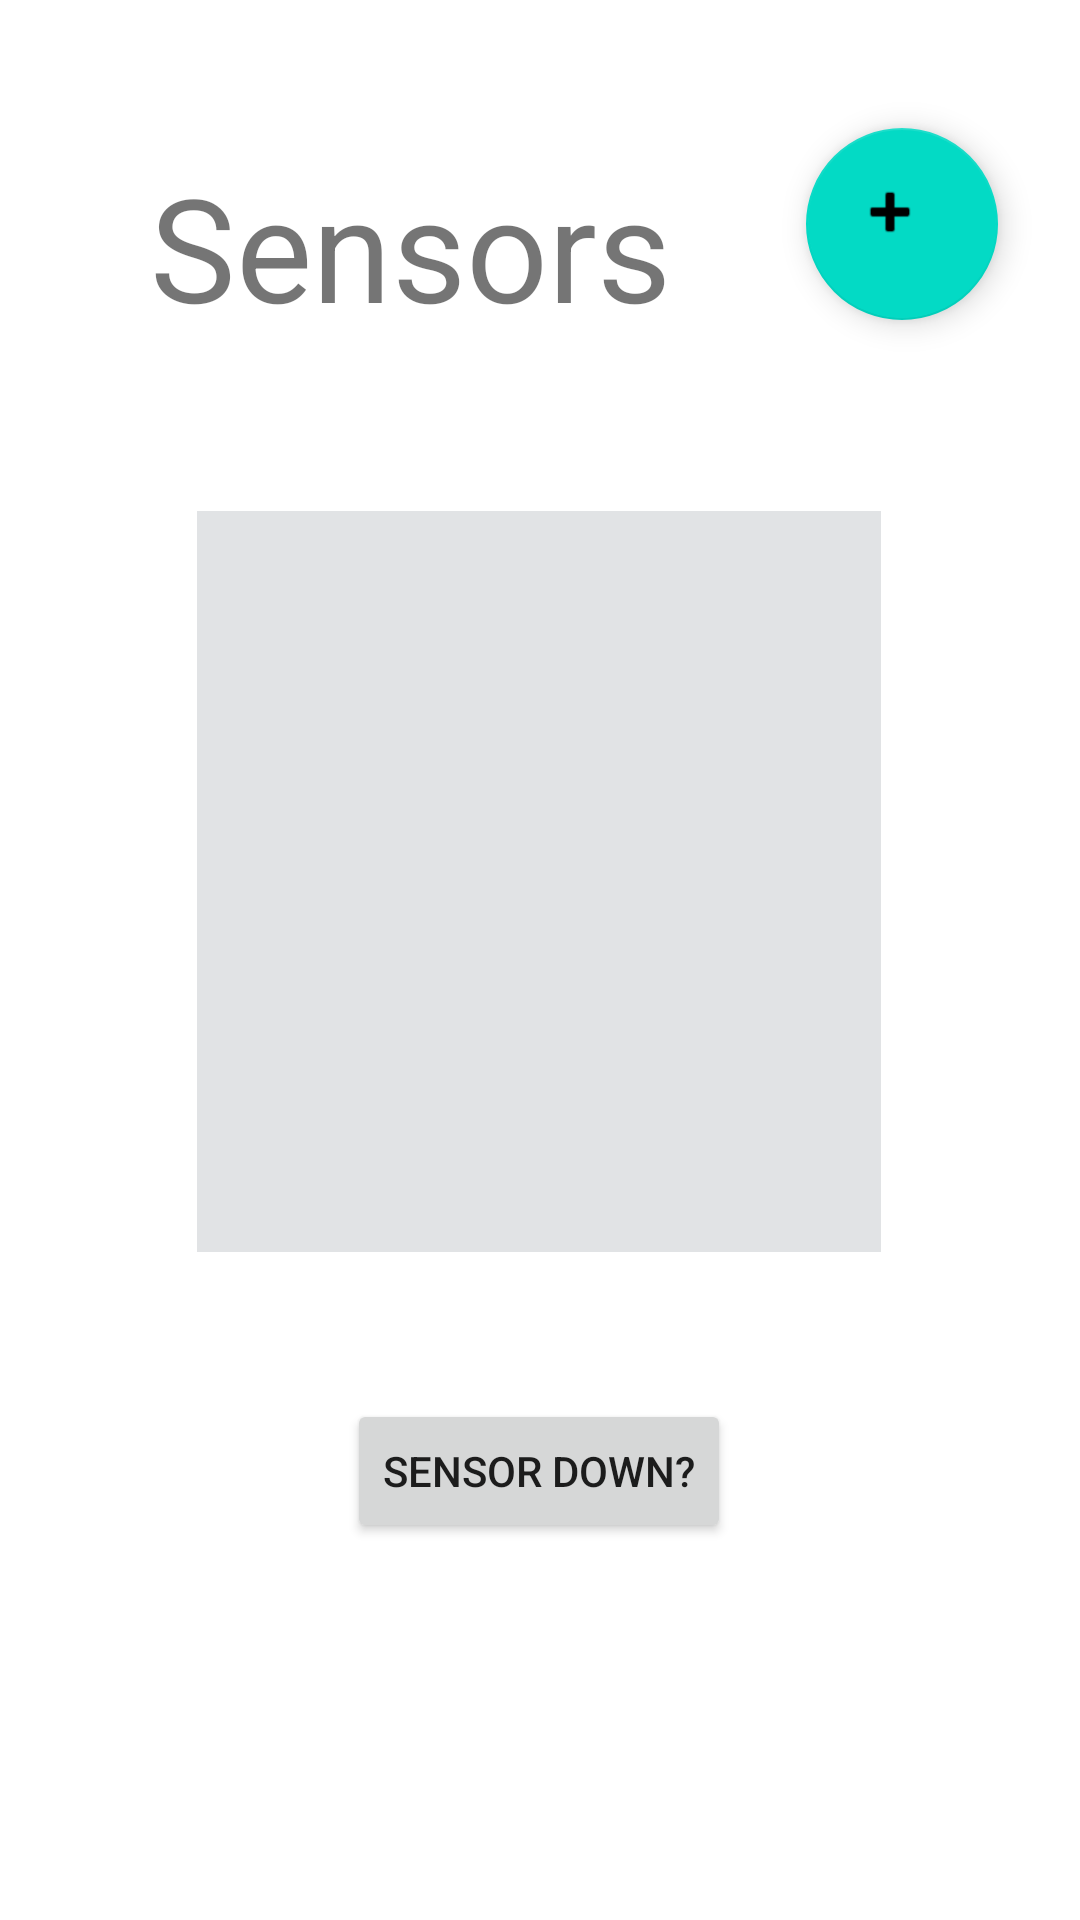

Where icons sit on this 1080×1920 app screen, as box(x1, y1, x2, y2):
add: box(806, 128, 998, 320)
